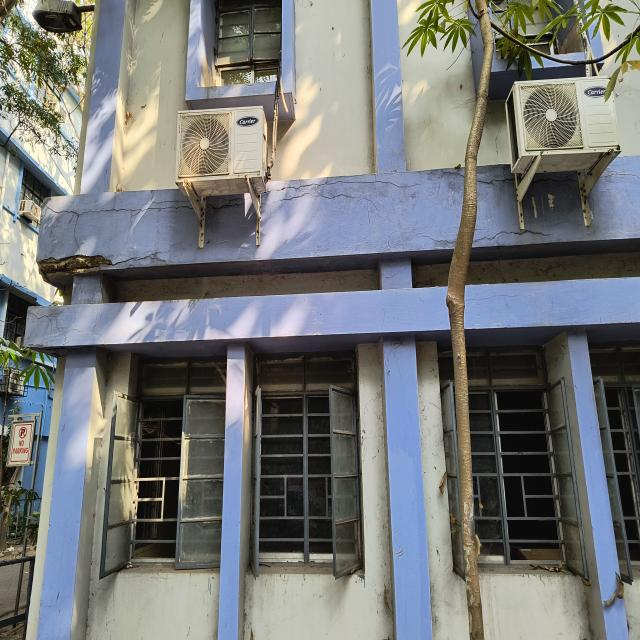crack: (41, 193, 193, 251), (261, 179, 427, 198), (27, 311, 87, 346), (477, 165, 514, 207), (473, 228, 554, 244), (269, 191, 357, 205), (112, 246, 173, 266), (530, 171, 580, 187), (464, 292, 534, 303), (414, 289, 425, 331), (381, 266, 411, 280), (599, 172, 640, 181), (379, 290, 387, 334), (422, 235, 457, 245), (440, 169, 464, 180), (141, 190, 156, 206), (98, 273, 105, 304), (151, 200, 190, 204)
peeling: (546, 190, 557, 214), (530, 196, 538, 220), (541, 193, 545, 216)
spalling: (39, 255, 112, 280)
